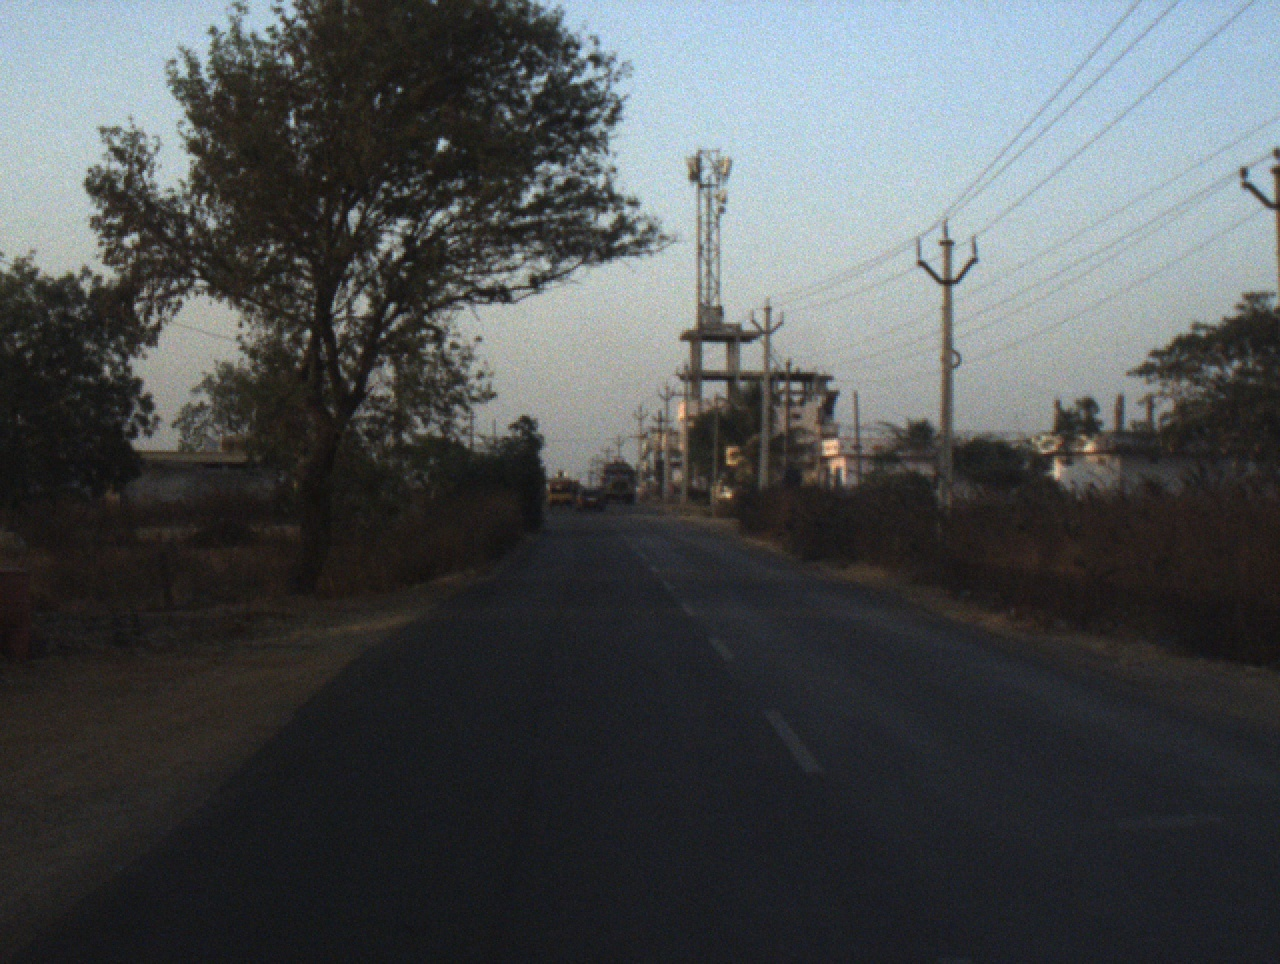autorickshaw: (540, 466, 578, 514)
car: (572, 486, 610, 520)
truck: (598, 455, 643, 508)
